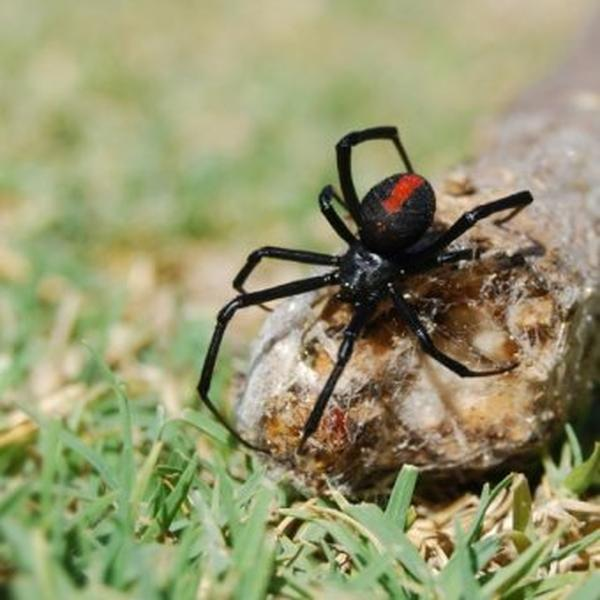Redback Spider: (199, 126, 535, 455)
